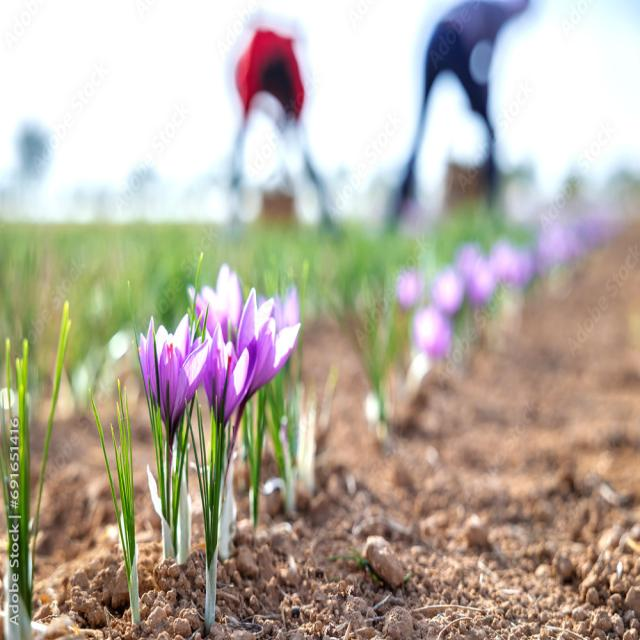saffron open: (139, 315, 209, 444), (238, 289, 300, 405), (202, 322, 250, 427)
